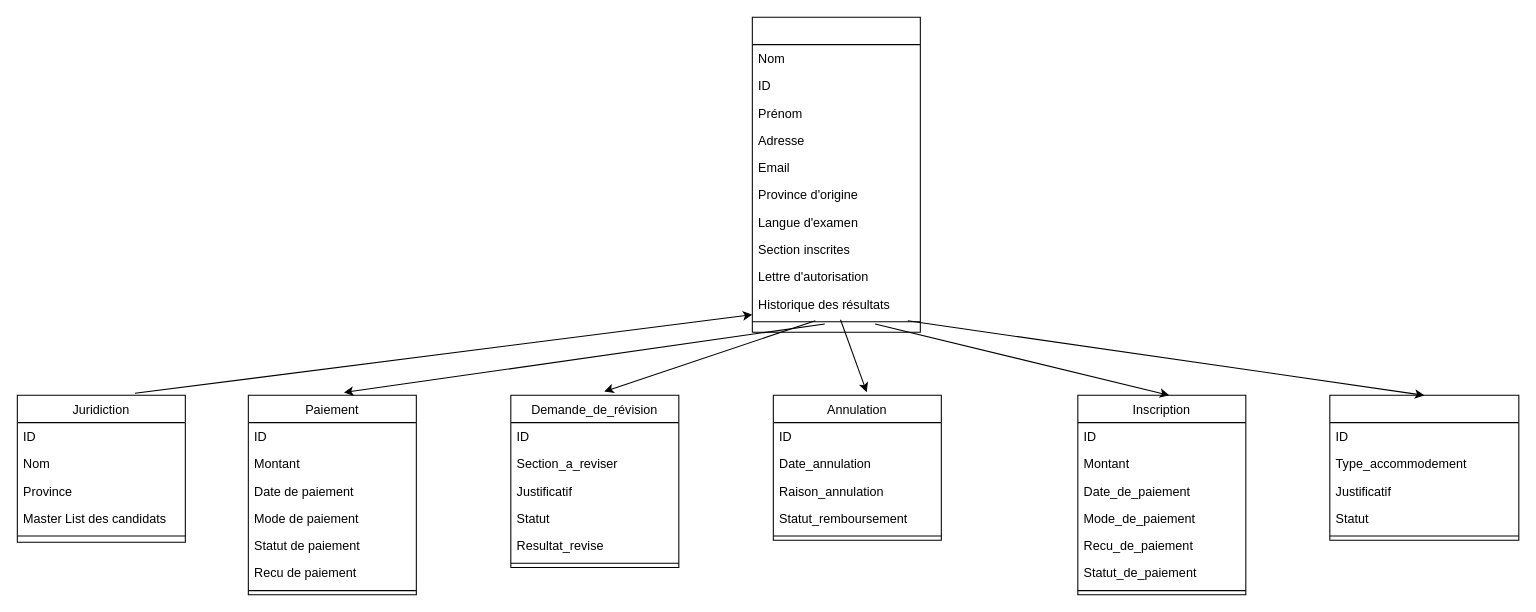
This 1536x612 diagram has some shape labels left out. The shapes that lost their labels are listed below. From the top down, each one's box as (x1, y1, x2, y2) in pixels, then its label:
(751, 16, 920, 332): Candidat
(1329, 394, 1519, 540): Demande_d'accommodement
